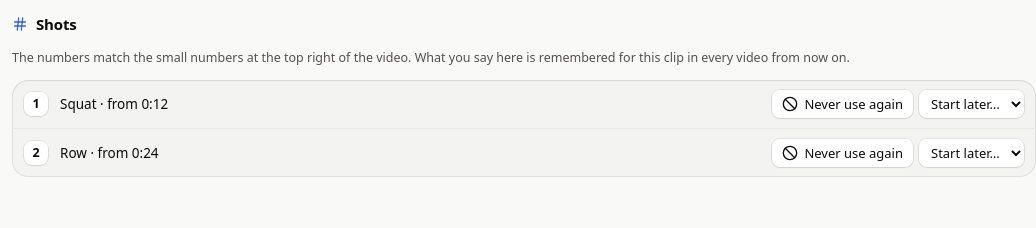
Scenario: feedback on a shot is given by its number and can be taken back
The image size is (1036, 228).
Later steps or results of the test are not shown.
Expected: the number of list items with test id "shot" is 2, [12,80,1035,129]; [12,129,1035,177]
Expected: the list item with test id "shot" shows "Squat · from 0:12", [60,95,168,113]
Click the button "Never use again" in the row of "Squat · from 0:12".
click(843, 104)  # box [772,90,913,118]
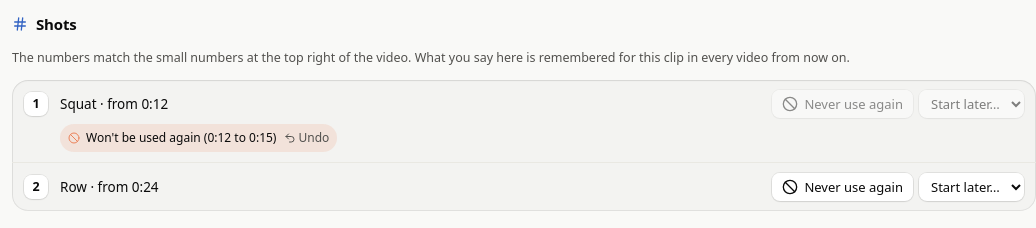
Result: the list item "Won't be used again (0:12 to 0:15)" is shown at [86,129,276,146]
